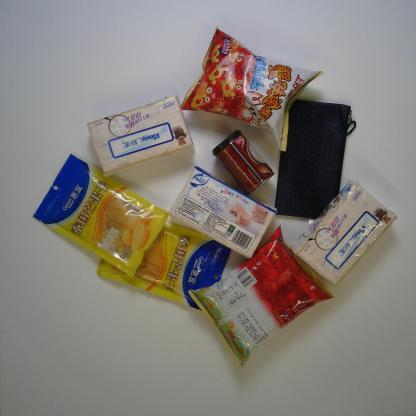Canned Food: (210, 130, 278, 196)
Dried Fruit: (32, 152, 173, 280), (95, 212, 238, 314)
Puffed Food: (187, 223, 336, 377), (180, 24, 325, 153)
Stationery: (270, 95, 357, 223)
Tissue: (289, 178, 398, 288), (167, 164, 279, 260), (87, 94, 195, 178)
